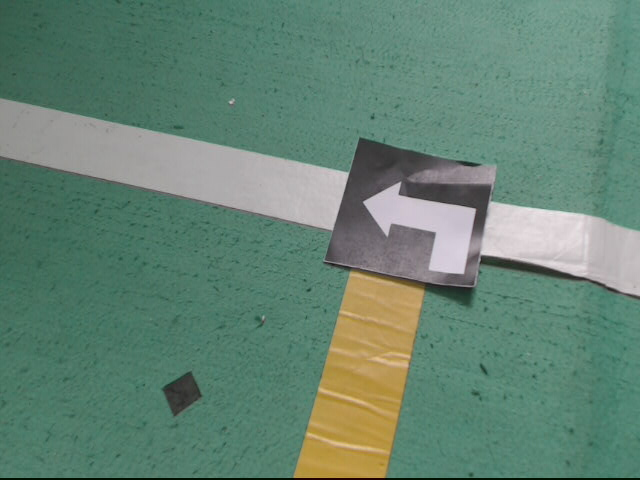left: (321, 137, 495, 293)
